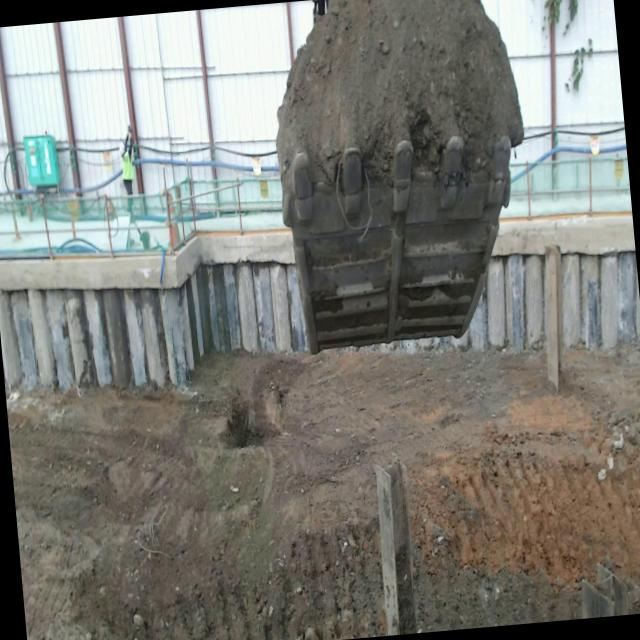cement: (0, 230, 294, 291), (491, 213, 635, 256)
red-sand: (6, 345, 640, 640), (276, 0, 523, 191)
